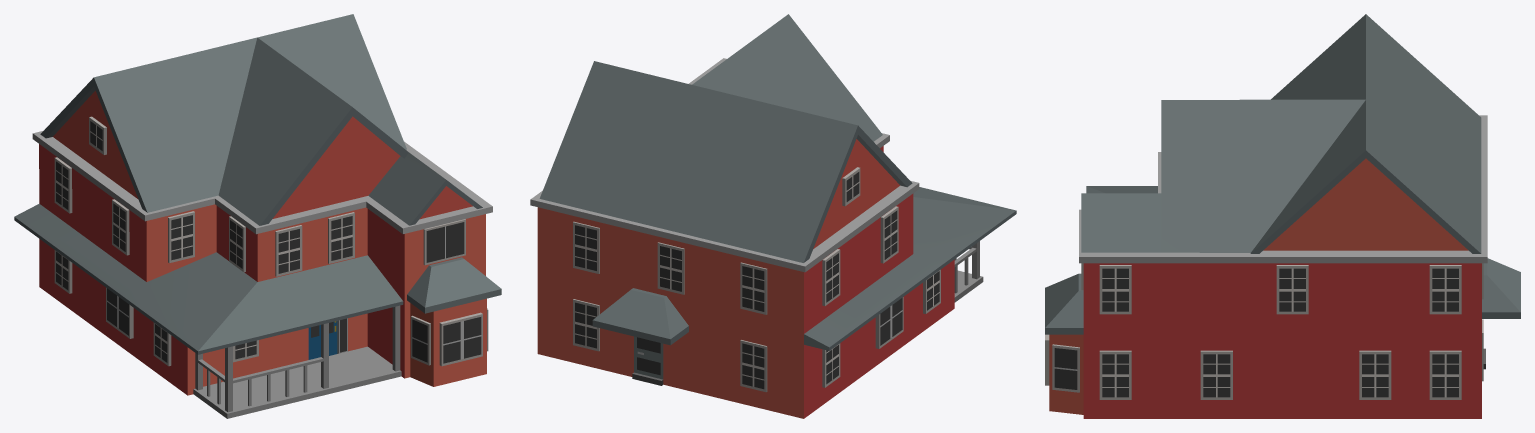
File: big_house1.obj
The picture shows the model from 3 angles, left to right: view 1: azimuth 30°, elevation 25°; view 2: azimuth 150°, elevation 25°; view 3: azimuth 270°, elevation 25°; orthographic projection. The views are drawn at different scales.
Parts seen in each view (by area): view 1: ST_Building_House_06_Untitled.006; view 2: ST_Building_House_06_Untitled.006; view 3: ST_Building_House_06_Untitled.006.
Part boxes in pixels (x1=…): ST_Building_House_06_Untitled.006: x1=14, y1=14, x2=501, y2=418; ST_Building_House_06_Untitled.006: x1=530, y1=14, x2=1016, y2=418; ST_Building_House_06_Untitled.006: x1=1045, y1=14, x2=1520, y2=418.
Size of the model in its own units: 19.56 by 15.98 by 25.71.
